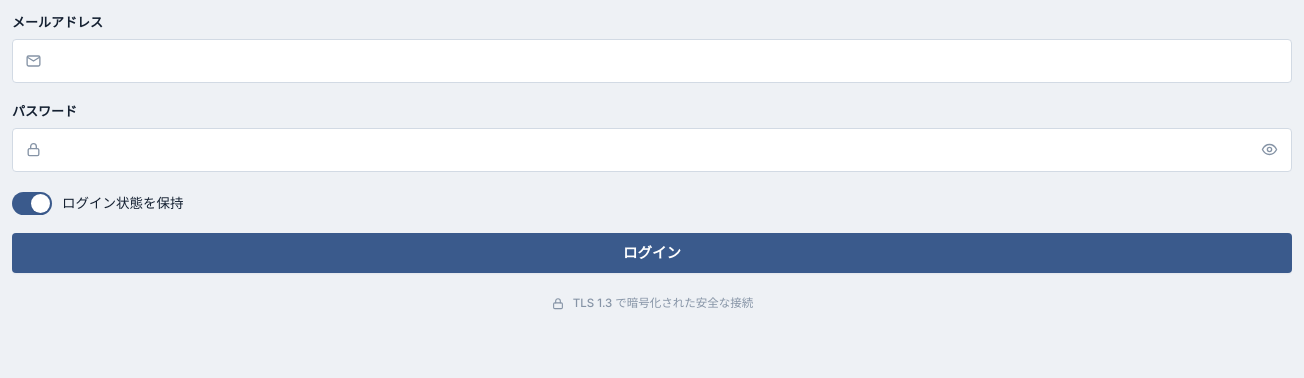
Test case: LoginForm › blocks submit and shows field errors when empty
Step 1. Click the button with test id "login-submit" → click(652, 253), box [12,233,1292,273]
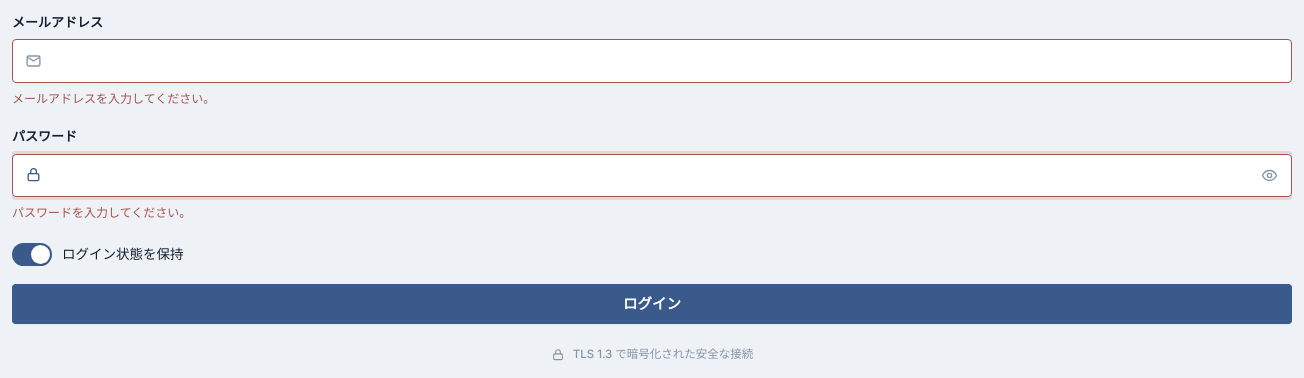
Expected: the text "メールアドレスを入力してください。" is shown, [12,91,215,106]
Expected: the text "パスワードを入力してください。" is shown, [12,205,191,220]
